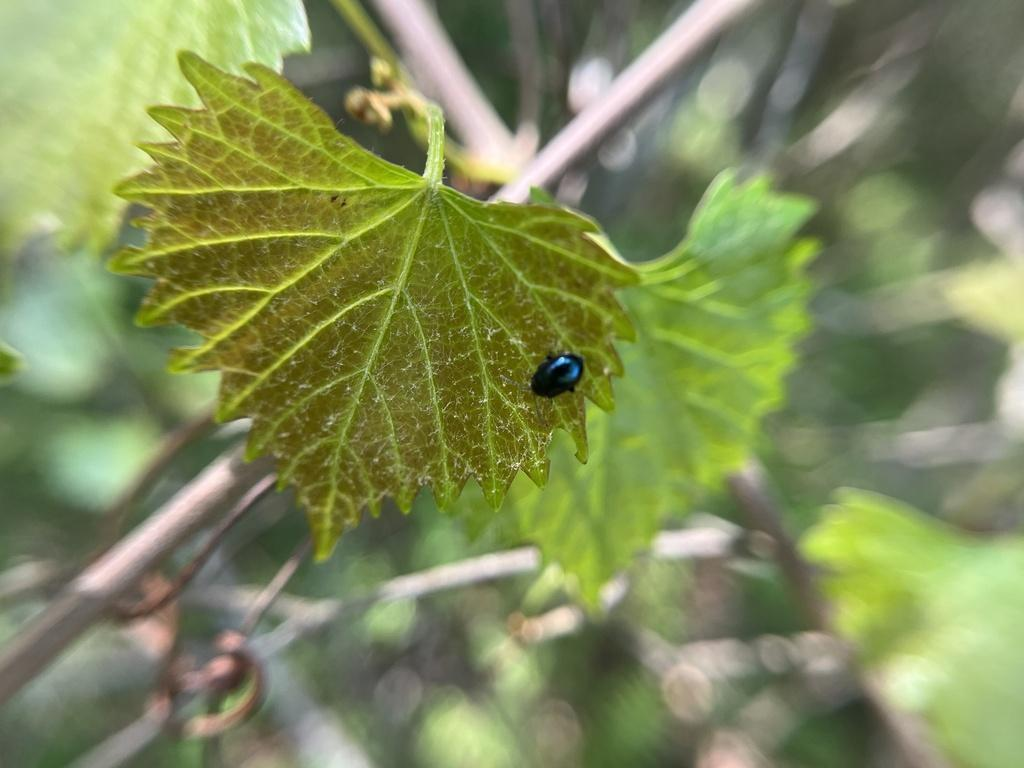flea_beetle: (512, 326, 601, 418)
